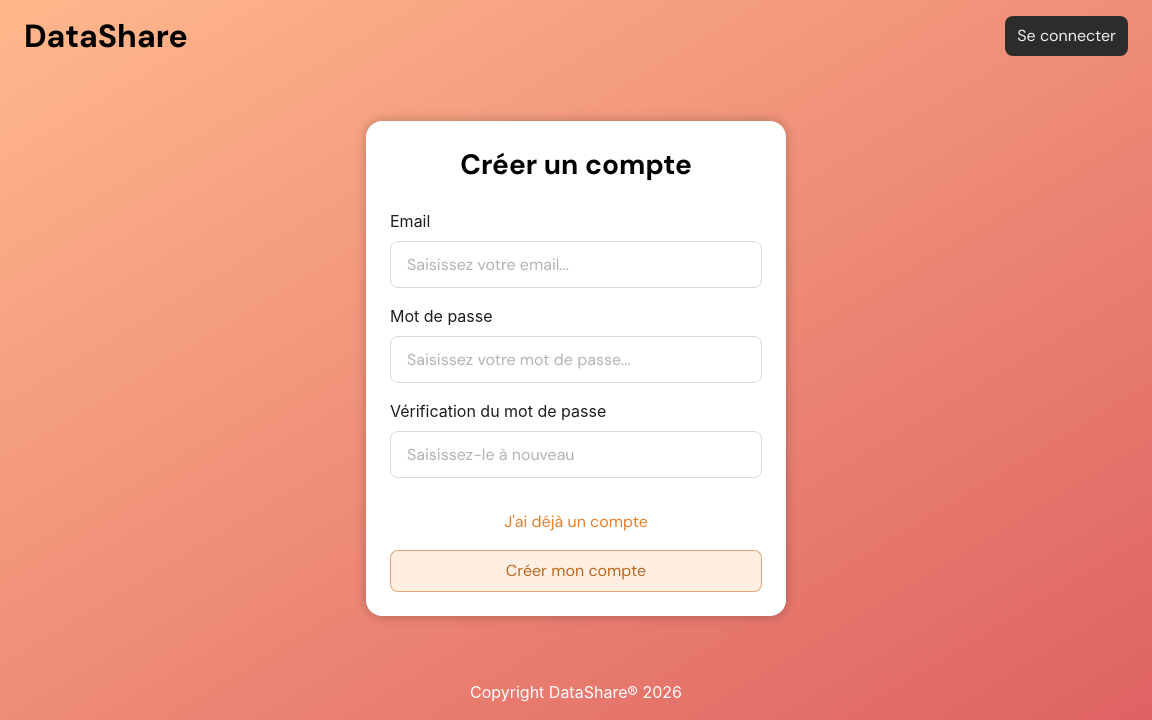
Test: RegisterView › affiche une erreur et n'appelle pas register si le mot de passe fait moins de 8 caractères
Type "user@example.com" into the field with id "register-email".
click(576, 264); type("user@example.com")  # box left=390, top=240, right=762, bottom=288
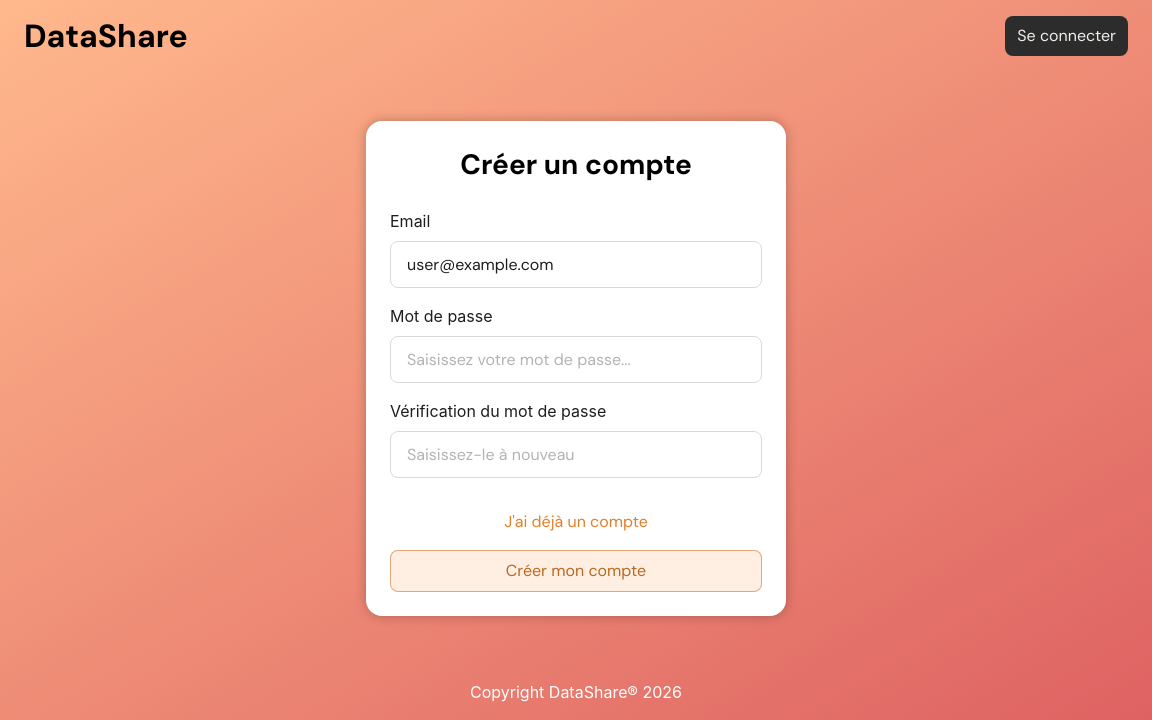
Type "court12" into the password field with id "register-password".
click(576, 359); type("court12")  # box left=390, top=336, right=762, bottom=382
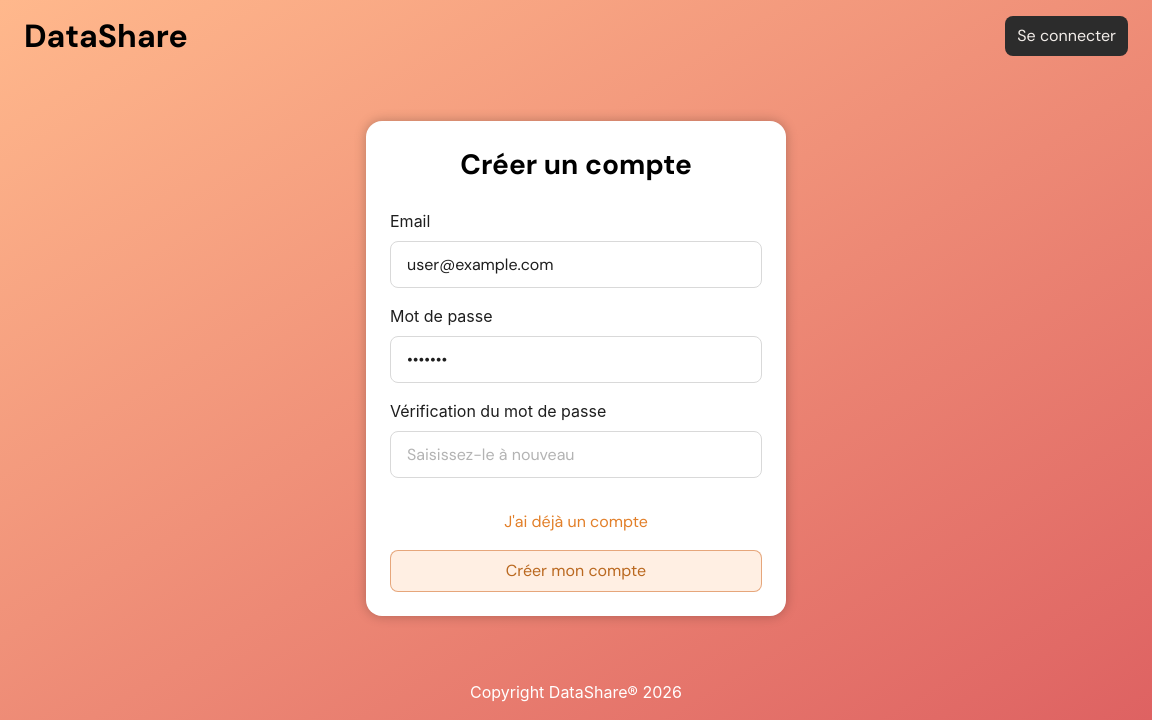
Type "court12" into the password field with id "register-password-confirmation".
click(576, 454); type("court12")  # box left=390, top=430, right=762, bottom=478
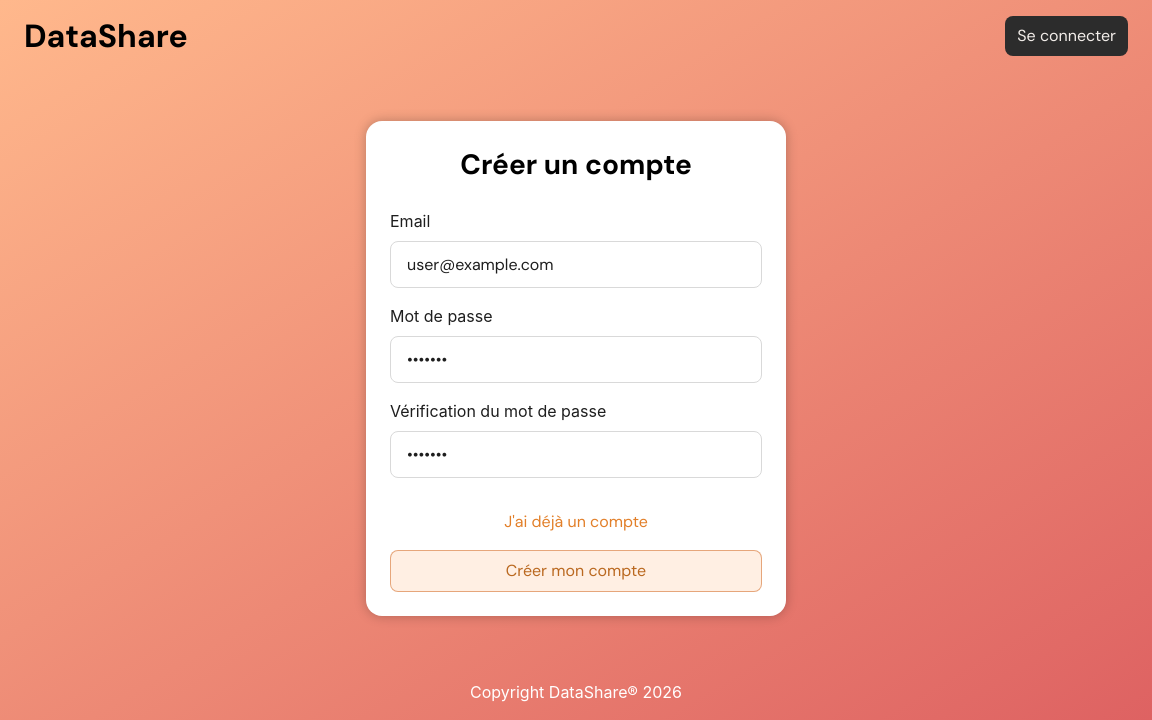
Submit the form, box left=390, top=208, right=762, bottom=592
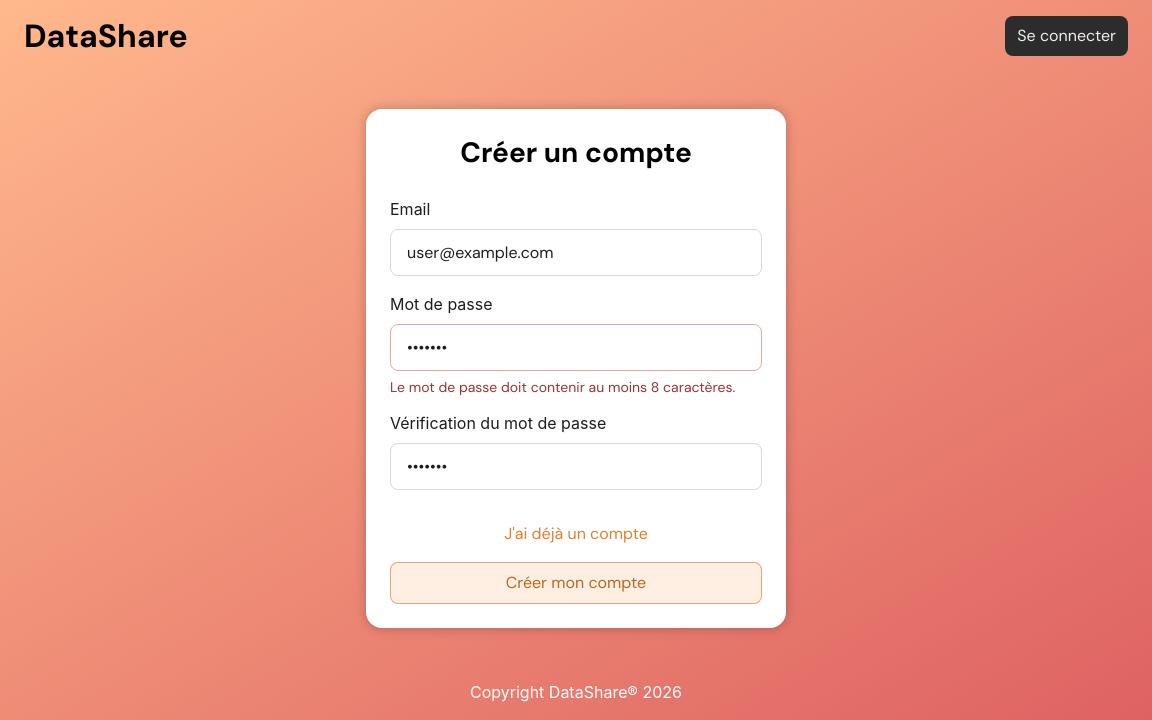
Result: the text "Le mot de passe doit contenir au moins 8 caractères." is shown at left=390, top=378, right=762, bottom=394
Result: the text with id "register-password-error" reads "Le mot de passe doit contenir au moins 8 caractères." at left=390, top=378, right=735, bottom=396
